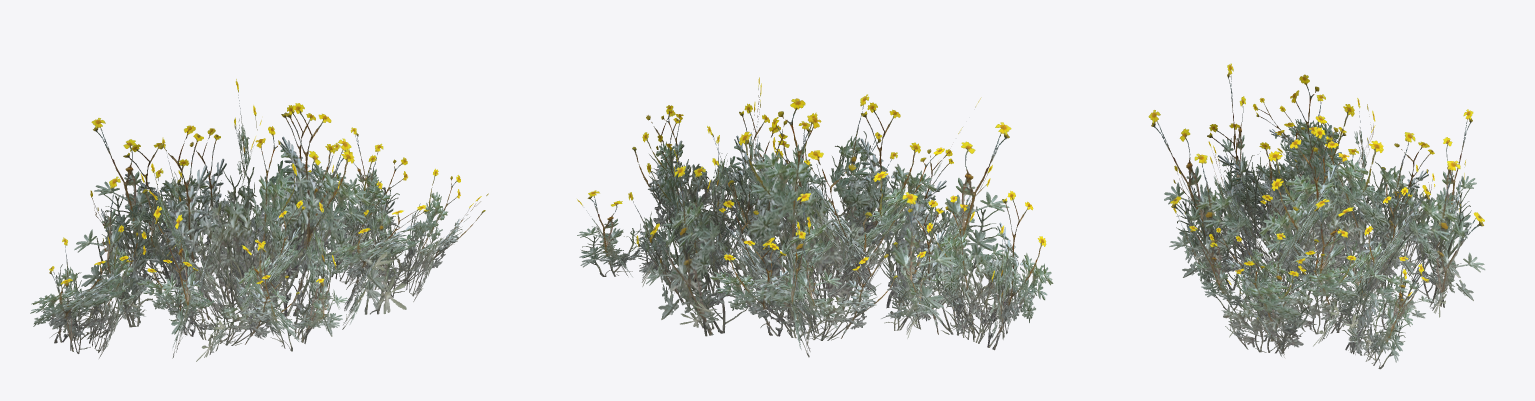
The model's file is proc_brittlebush_01.FBX.
3 renders of one model, left to right at view 1: azimuth 30°, elevation 25°; view 2: azimuth 150°, elevation 25°; view 3: azimuth 270°, elevation 25°, orthographic. The views are drawn at different scales.
Parts seen in each view (by area): view 1: proc_brittlebush_01; view 2: proc_brittlebush_01; view 3: proc_brittlebush_01.
Boxes of the visible parts, x1,y1,x2,y2 form: proc_brittlebush_01: [30, 79, 488, 361]; proc_brittlebush_01: [577, 77, 1053, 357]; proc_brittlebush_01: [1148, 63, 1485, 369].
Size of the model in its own units: 2.45 by 1.81 by 0.9785.
1 material, 1 textured.
